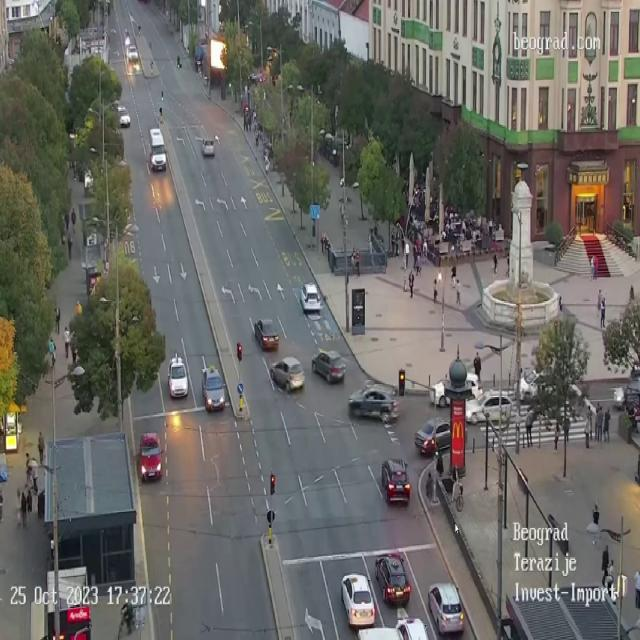car: (344, 380, 398, 422), (427, 582, 465, 634), (338, 576, 375, 628), (465, 389, 515, 423), (375, 551, 410, 598), (431, 376, 483, 407), (416, 416, 458, 454), (270, 356, 305, 392), (517, 370, 559, 400), (383, 457, 410, 503), (311, 349, 346, 384), (139, 432, 163, 482), (201, 366, 225, 412), (167, 354, 188, 399), (254, 318, 279, 351), (399, 614, 427, 640), (615, 381, 640, 409), (150, 130, 166, 172), (300, 283, 322, 312), (202, 139, 218, 159), (118, 104, 129, 125), (130, 44, 138, 67)
